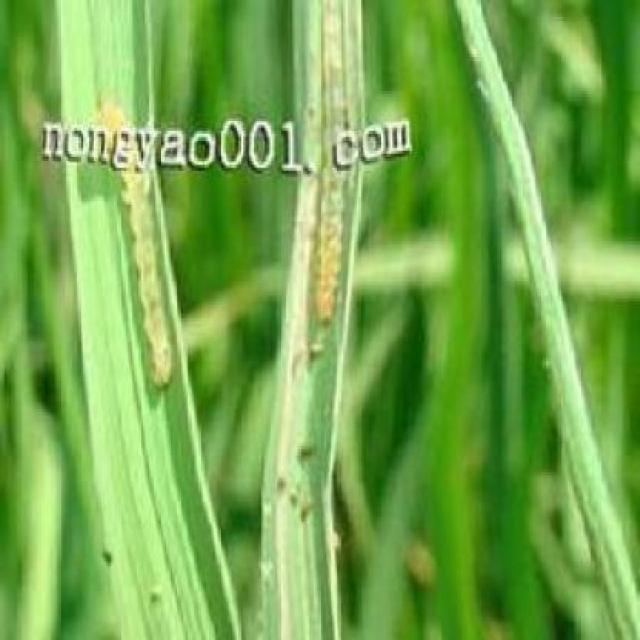leaf-folder: (116, 190, 192, 422), (298, 192, 380, 336)
